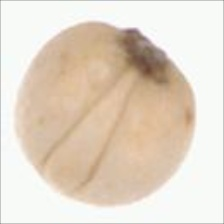L5: (37, 64, 143, 193), (115, 24, 177, 85)
L6: (12, 19, 198, 208)
